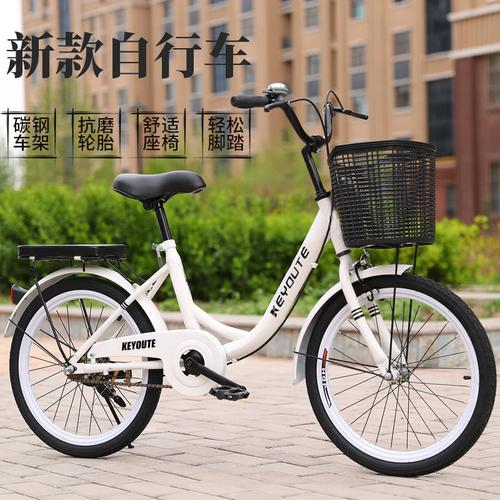单车: (7, 81, 500, 479)
